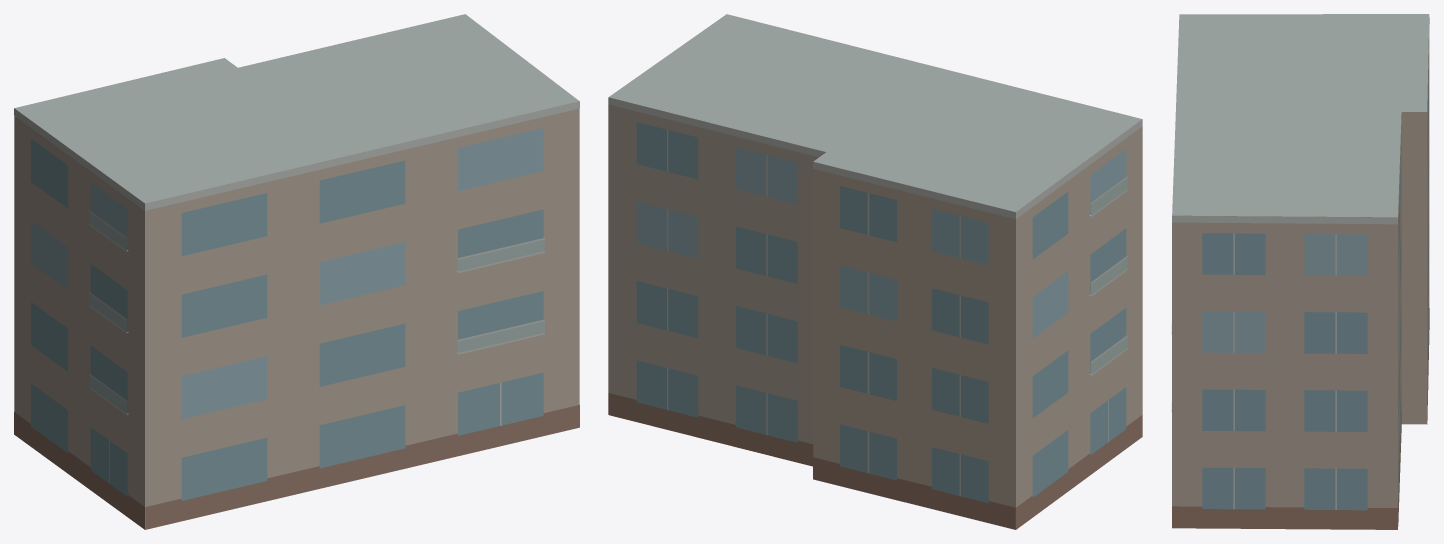
File: survey-upis-32915607.glb
3 renders of one model, left to right at view 1: azimuth 30°, elevation 25°; view 2: azimuth 150°, elevation 25°; view 3: azimuth 270°, elevation 25°, orthographic. The views are drawn at different scales.
Parts seen in each view (by area): view 1: survey-upis-32915607.tmp; view 2: survey-upis-32915607.tmp; view 3: survey-upis-32915607.tmp.
Boxes of the visible parts, <box> form: survey-upis-32915607.tmp: <box>14,14,579,529</box>; survey-upis-32915607.tmp: <box>608,14,1142,529</box>; survey-upis-32915607.tmp: <box>1171,14,1429,529</box>.
Bounding box in the file's own units: 15.38 × 11 × 8.23.
